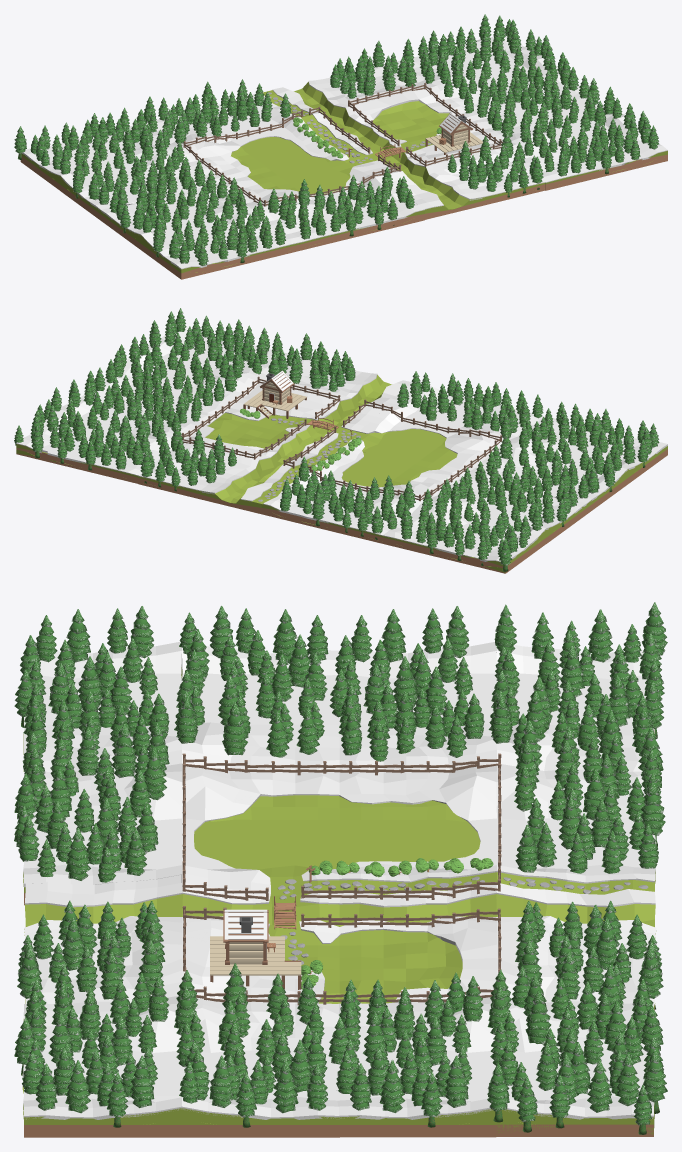
Rendered from map_winter.fbx.
3 renders of one model, top to bottom at view 1: azimuth 30°, elevation 25°; view 2: azimuth 150°, elevation 25°; view 3: azimuth 270°, elevation 25°, orthographic. The views are drawn at different scales.
Parts seen in each view (by area): view 1: Ground.Cover.001, Ground.Cover.014, Ground.Cover.004, Ground.Cover.016, Ground.Cover.002, Ground.Cover.013, Ground.Cover.009, Ground.Cover.008, Ground.Cover.012, Ground.Cover.005, Ground.001, Ground.Cover.015 (+30 smaller); view 2: Ground.Cover.004, Ground.Cover.001, Ground.Cover.002, Ground.Cover.014, Ground.Cover.012, Ground.Cover.009, Ground.Cover.008, Ground.Cover.016, Ground.Cover.005, Ground.Cover.013, Ground.Cover.003, Ground.002 (+30 smaller); view 3: Ground.Cover.004, Ground.Cover.001, Ground.Cover.014, Ground.Cover.002, Ground.Cover.005, Ground.Cover.016, Ground.Cover.008, Ground.Cover.009, Ground.Cover.012, Ground.Cover.013, Ground.001, Ground.002 (+33 smaller).
Boxes of the visible parts, box(x1,y1,x2,y2) form: Ground.Cover.001: box(14, 107, 170, 176); Ground.Cover.014: box(268, 166, 414, 244); Ground.Cover.004: box(402, 14, 549, 83); Ground.Cover.016: box(524, 103, 658, 176); Ground.Cover.002: box(144, 79, 291, 143); Ground.Cover.013: box(153, 195, 285, 272); Ground.Cover.009: box(109, 169, 245, 233); Ground.Cover.008: box(444, 44, 578, 117); Ground.Cover.012: box(487, 75, 622, 142); Ground.Cover.005: box(67, 137, 205, 204); Ground.001: box(304, 101, 449, 150); Ground.Cover.015: box(447, 131, 543, 197); Ground.Cover.004: box(14, 387, 166, 470); Ground.Cover.001: box(400, 483, 542, 572); Ground.Cover.002: box(278, 456, 415, 539); Ground.Cover.014: box(397, 371, 543, 438); Ground.Cover.012: box(105, 334, 242, 405); Ground.Cover.009: box(486, 424, 621, 498); Ground.Cover.008: box(68, 367, 202, 431); Ground.Cover.016: box(149, 308, 282, 374); Ground.Cover.005: box(444, 461, 577, 531); Ground.Cover.013: box(525, 401, 659, 467); Ground.Cover.003: box(140, 424, 236, 491); Ground.002: box(343, 429, 457, 469); Ground.Cover.004: box(487, 965, 667, 1135); Ground.Cover.001: box(488, 602, 667, 759); Ground.Cover.014: box(14, 723, 169, 882); Ground.Cover.002: box(514, 720, 665, 883); Ground.Cover.005: box(329, 606, 484, 761); Ground.Cover.016: box(14, 972, 169, 1127); Ground.Cover.008: box(328, 972, 483, 1127); Ground.Cover.009: box(174, 606, 328, 757); Ground.Cover.012: box(174, 963, 327, 1127); Ground.Cover.013: box(14, 606, 169, 771); Ground.001: box(339, 876, 496, 1003); Ground.002: box(194, 795, 341, 886).
Size of the model in its own units: 14930 by 1162 by 8695.
Materials: 125 (59 with a texture image).
